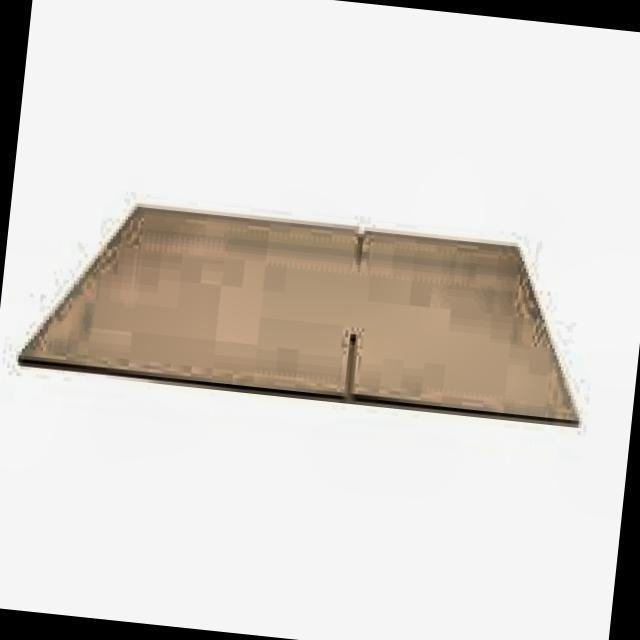cardboard: (15, 188, 597, 424)
